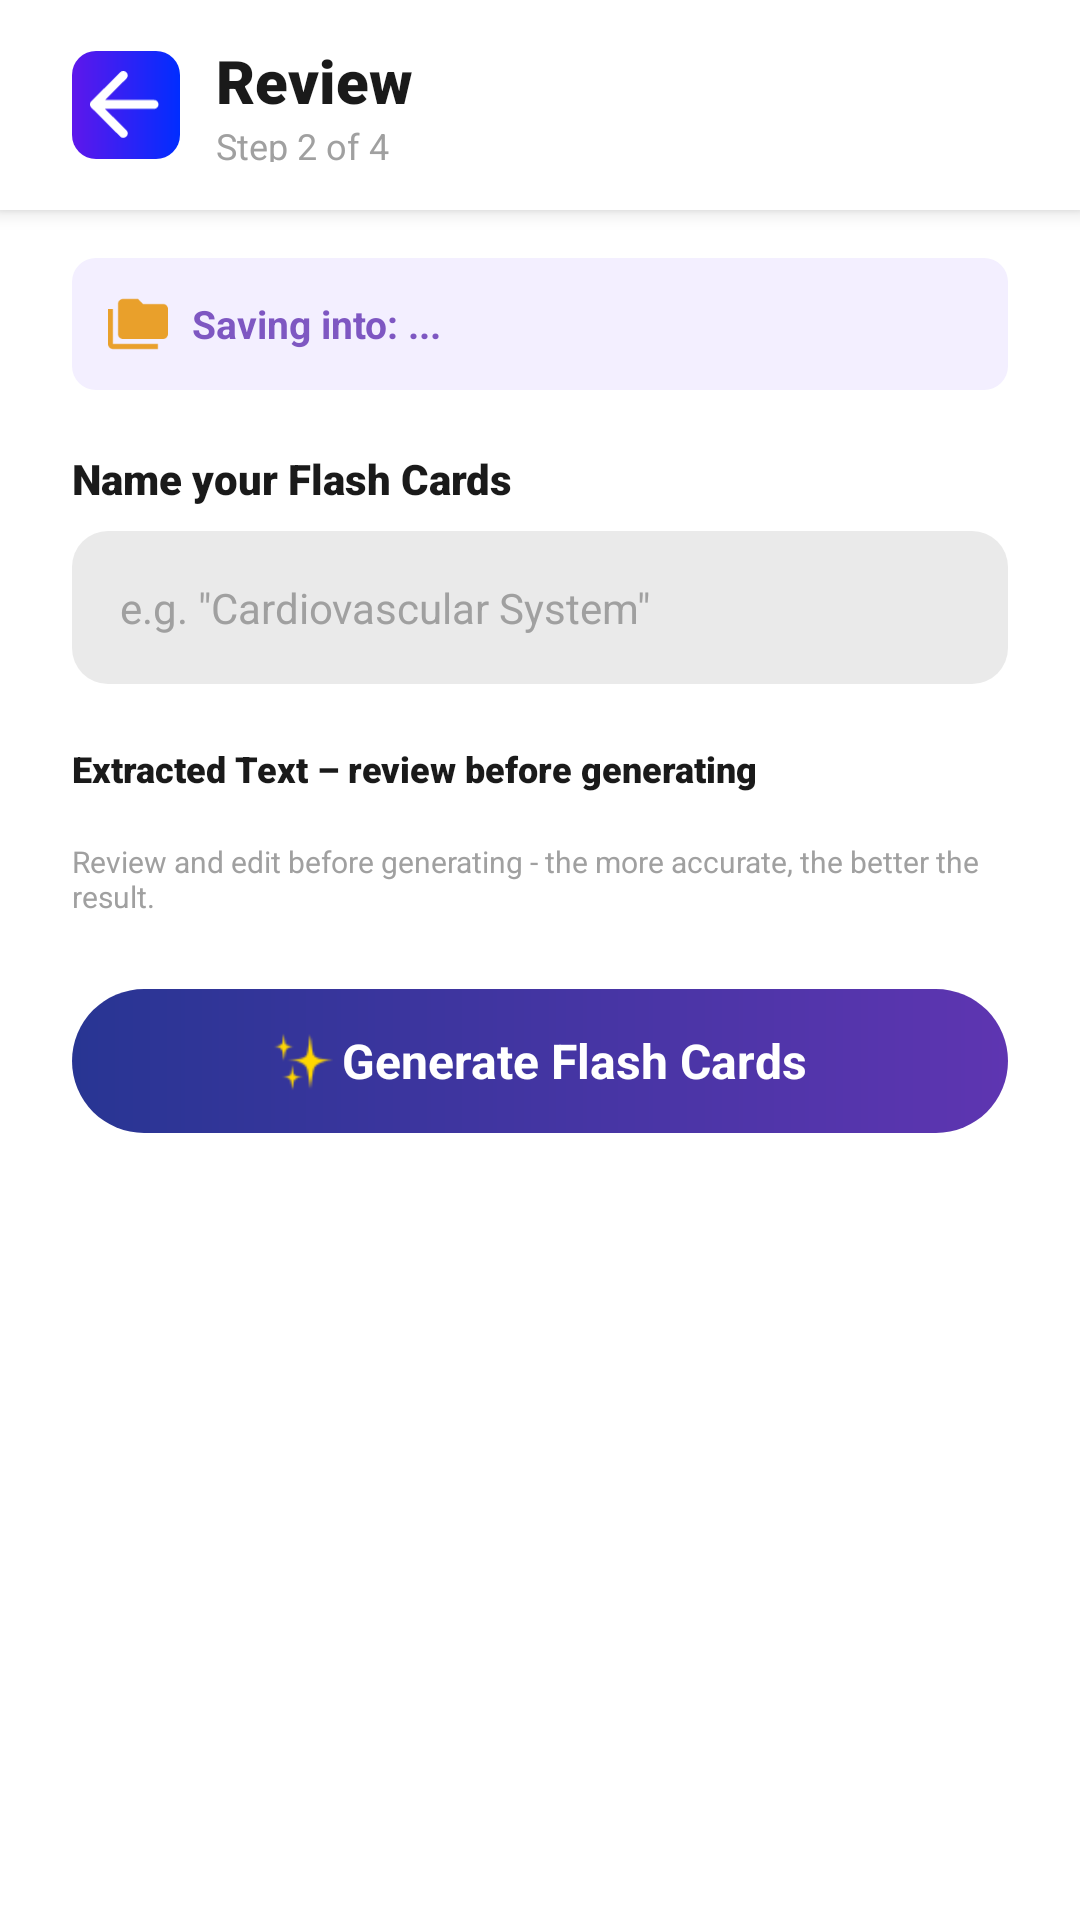

Screen size 1080×1920. Icon name, then its box in pixels as (x1, y1, x2, y2):
back arrow: (72, 51, 180, 159)
folder: (108, 298, 168, 350)
sparkles: (276, 1035, 331, 1089)
